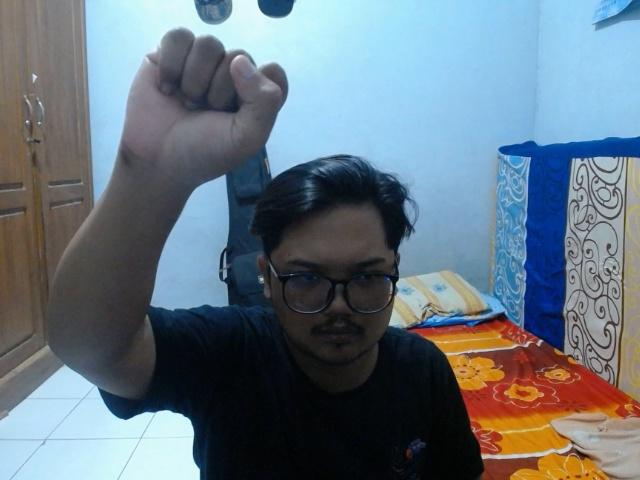Grab: (117, 22, 291, 186)
